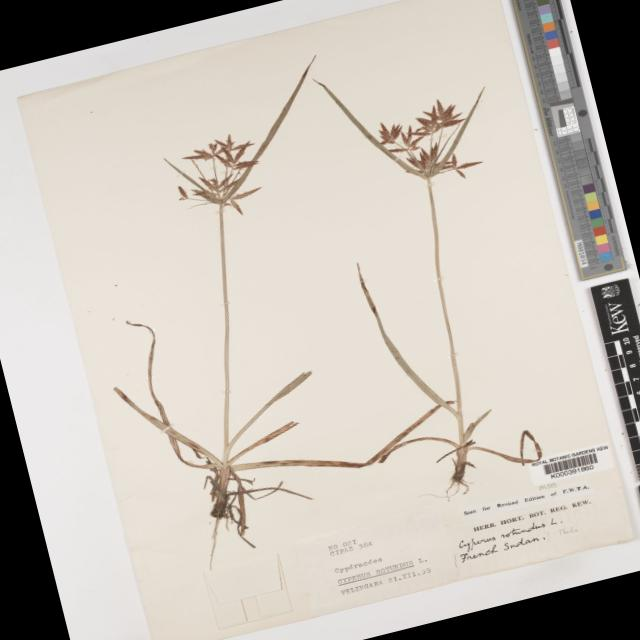cyperus: (362, 84, 498, 201), (158, 122, 272, 230)
